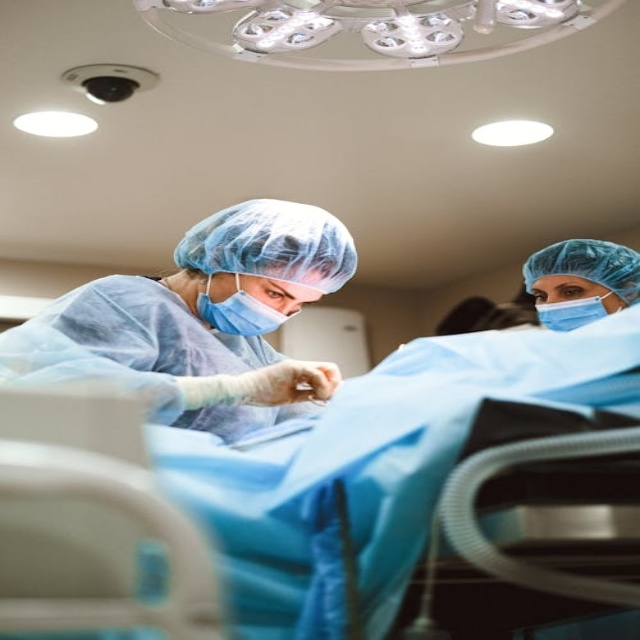Guantes: (207, 357, 342, 409)
Mascara: (198, 271, 297, 337), (535, 289, 622, 332)
Sin_gafas: (247, 273, 320, 312), (529, 276, 594, 304)
